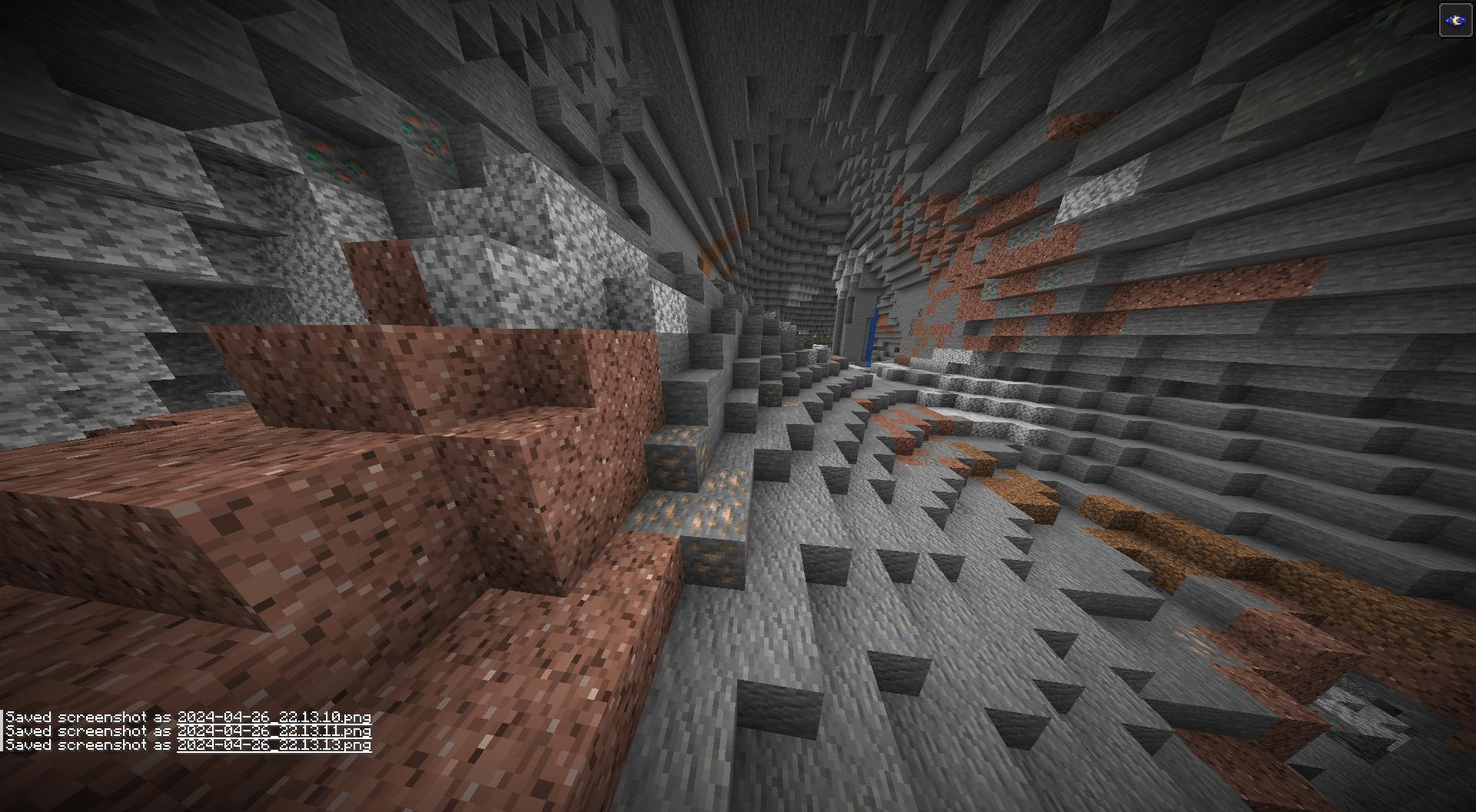iron ore: (649, 420, 713, 483), (681, 534, 745, 587), (684, 492, 743, 548), (634, 489, 689, 536), (760, 381, 804, 417), (712, 459, 756, 494)
